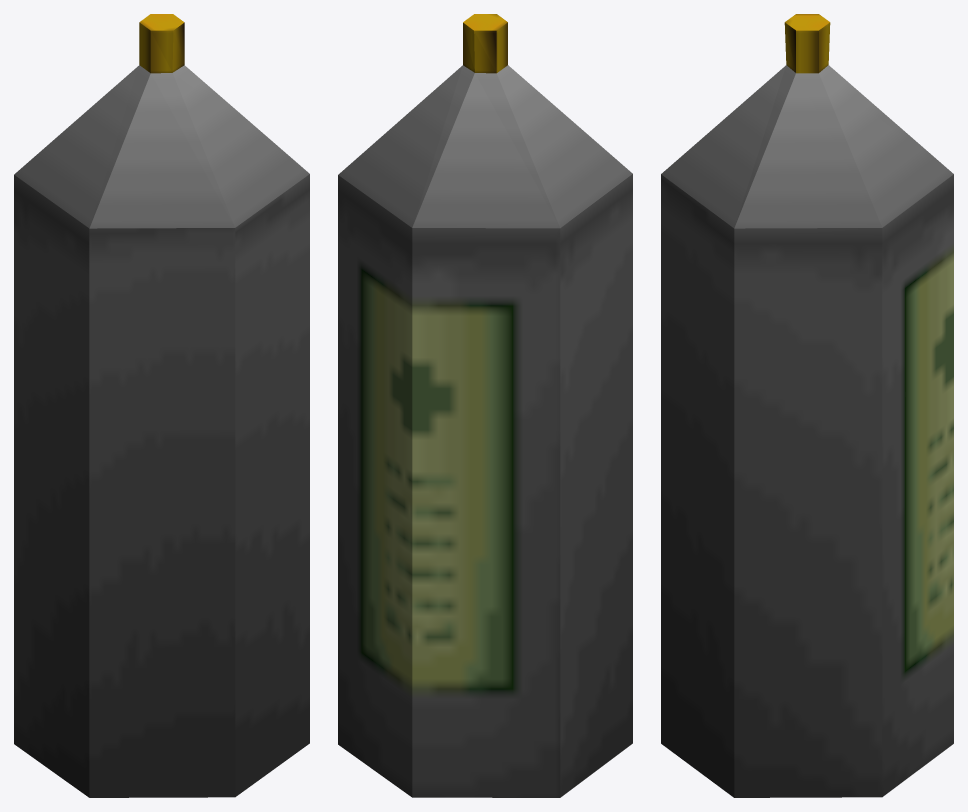
The model's file is RE15_ROOM1010_m00_spraydose.obj.
The picture shows the model from 3 angles, left to right: view 1: azimuth 30°, elevation 25°; view 2: azimuth 150°, elevation 25°; view 3: azimuth 270°, elevation 25°; orthographic projection.
Bounding box in the file's own units: 158 × 489 × 180.
Materials: 1 (1 with a texture image).
